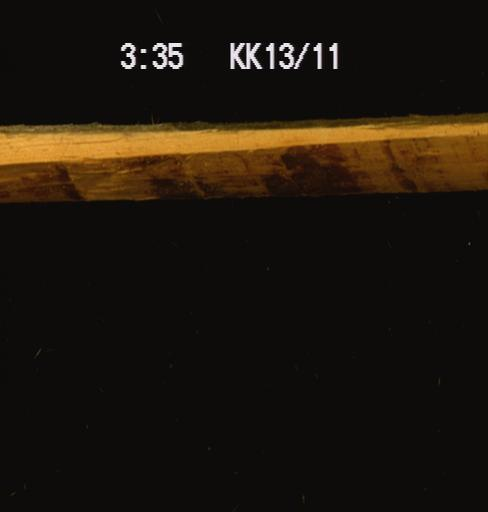wave: (0, 123, 487, 188)
